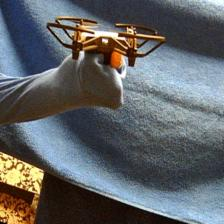drone: (45, 12, 166, 71)
